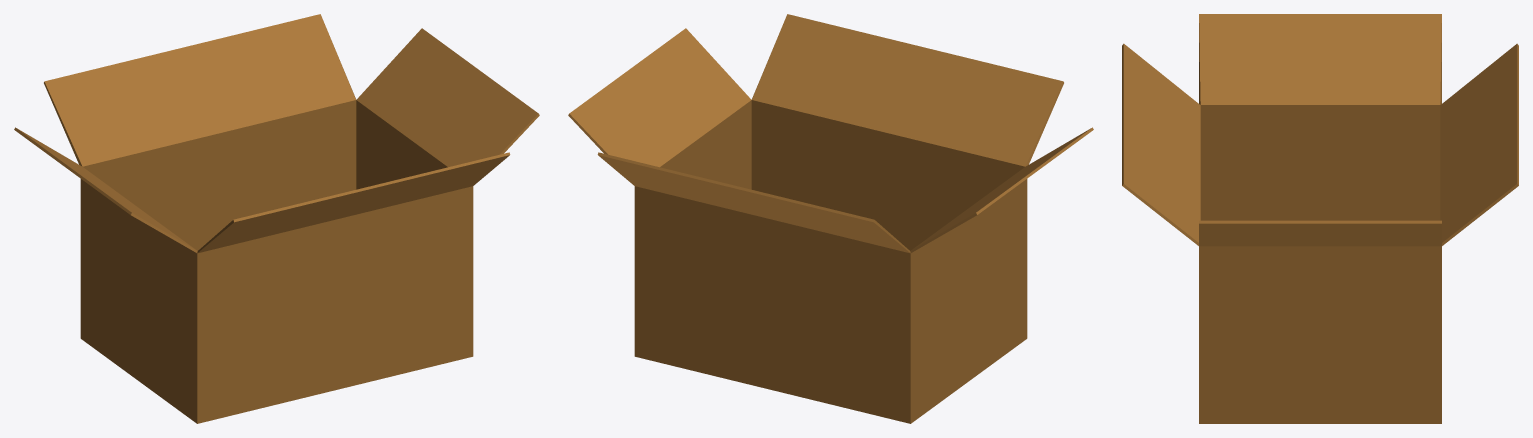
The model's file is open_box_0402.fbx.
3 views of the same model, side by side, from view 1: azimuth 30°, elevation 25°; view 2: azimuth 150°, elevation 25°; view 3: azimuth 270°, elevation 25° (orthographic). The views are drawn at different scales.
Visible parts, largest first — view 1: Box; view 2: Box; view 3: Box.
Boxes of the visible parts, left/top/right/bottom form: Box: left=14, top=14, right=539, bottom=423; Box: left=568, top=14, right=1093, bottom=423; Box: left=1122, top=14, right=1518, bottom=423.
Size of the model in its own units: 124 by 66.58 by 99.65.
1 material, 1 textured.
